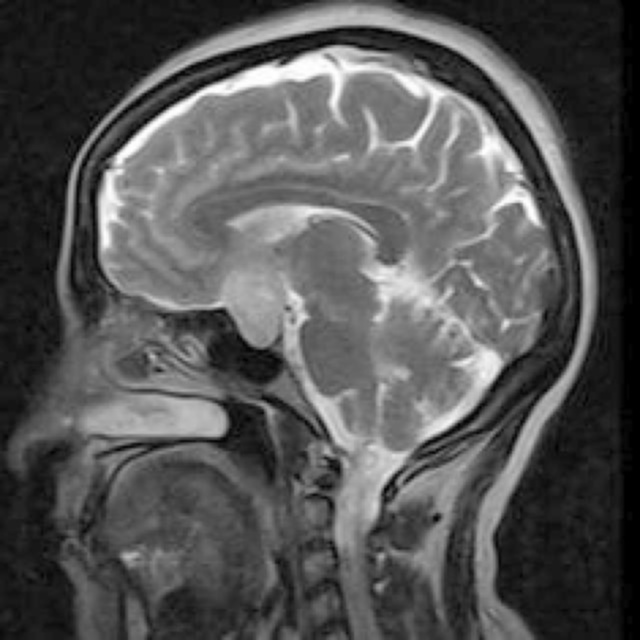glioma tumor: (117, 101, 496, 456)
